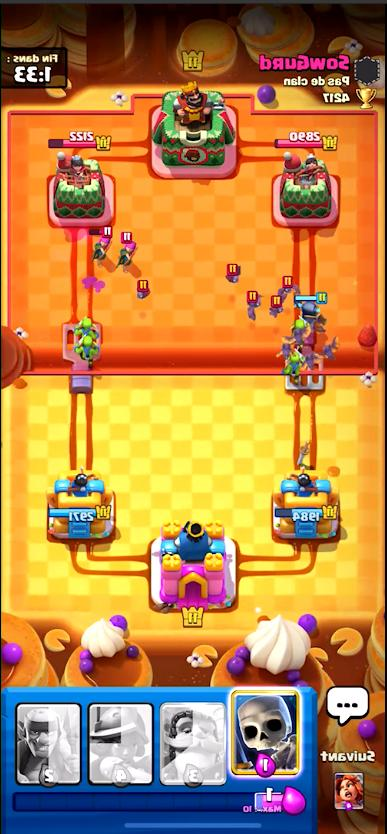archere: (88, 225, 112, 259), (117, 234, 136, 268)
bat: (318, 333, 340, 364), (276, 275, 302, 297), (284, 324, 313, 343), (274, 340, 296, 360), (246, 290, 262, 317), (223, 263, 240, 285), (134, 280, 150, 302), (303, 350, 322, 368), (269, 295, 285, 316)
gobelin: (75, 334, 99, 360), (283, 353, 305, 379), (73, 317, 99, 336), (290, 315, 306, 332)
mini_PEKKA: (299, 290, 327, 321)
